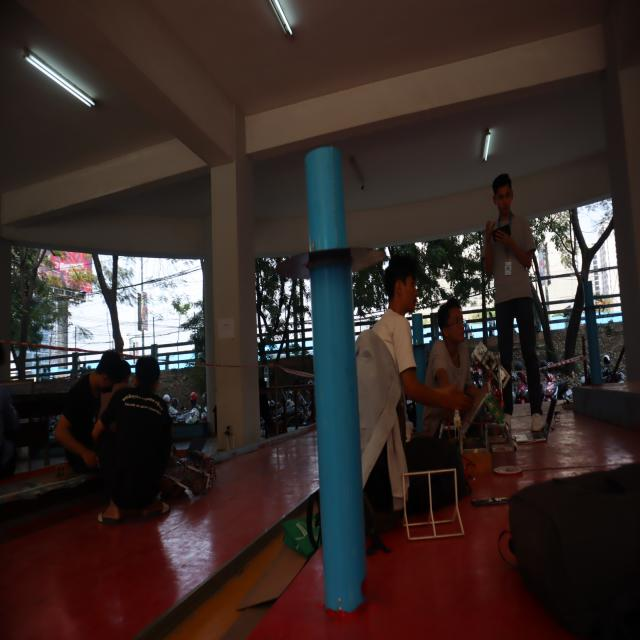pole: (279, 143, 387, 368)
